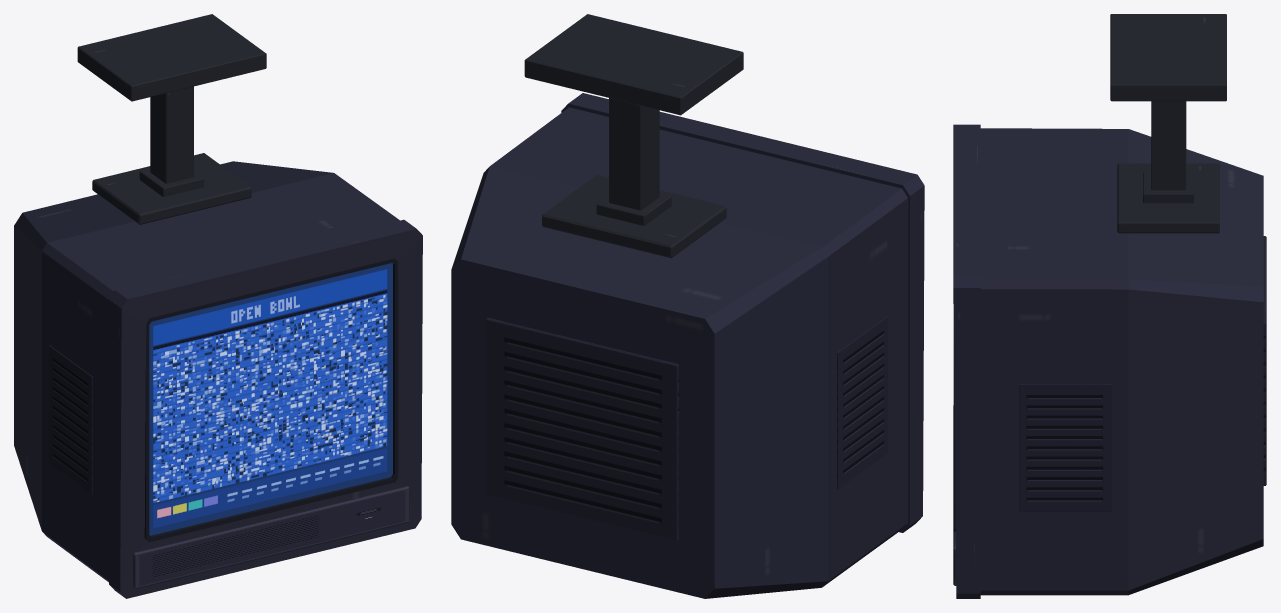
Rendered from score_monitor.glb.
3 renders of one model, left to right at view 1: azimuth 30°, elevation 25°; view 2: azimuth 150°, elevation 25°; view 3: azimuth 270°, elevation 25°, orthographic. The views are drawn at different scales.
Parts seen in each view (by area): view 1: arcade_score_monitor; view 2: arcade_score_monitor; view 3: arcade_score_monitor.
Part boxes in pixels (<box>): arcade_score_monitor: <box>14,14,422,598</box>; arcade_score_monitor: <box>451,14,924,598</box>; arcade_score_monitor: <box>953,14,1266,598</box>.
Bounding box in the file's own units: 0.8 × 1.12 × 0.6705.
3 materials, 3 textured.
